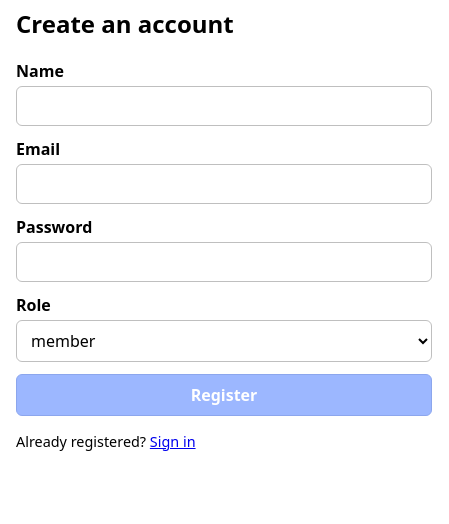
RegisterPage › renders the exact error string for a 400 validation failure
Type "Ada" into the field labelled "Name". click: (224, 106)
box: [16,86,432,126]
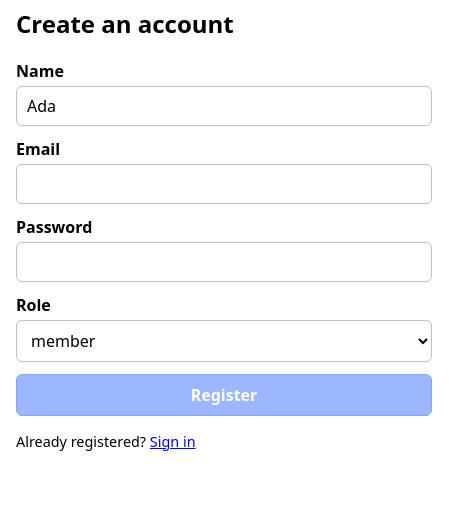
Type "ada@library.test" into the field labelled "Email". click: (224, 184)
box: [16,164,432,204]
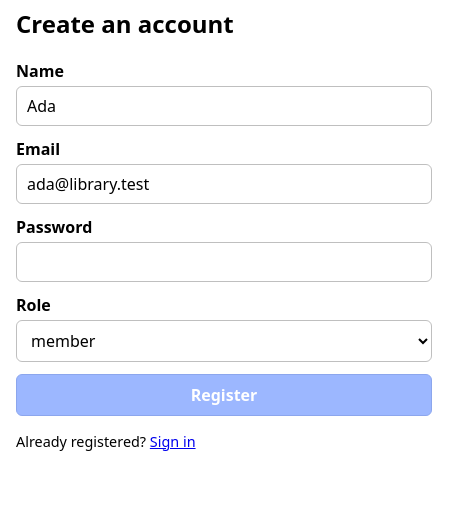
Type "short" into the password field labelled "Password". click: (224, 262)
box: [16,242,432,282]
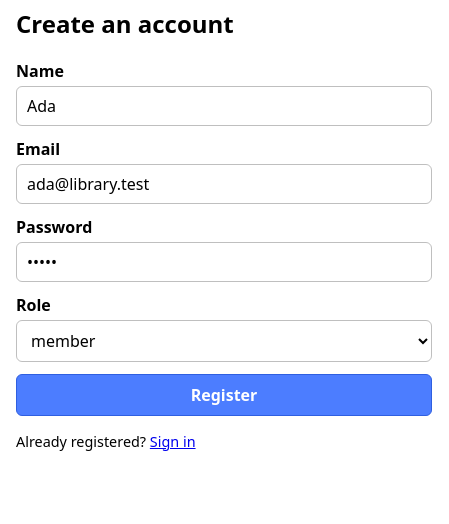
Click the button "Register". click: (224, 395)
box: [16,374,432,416]
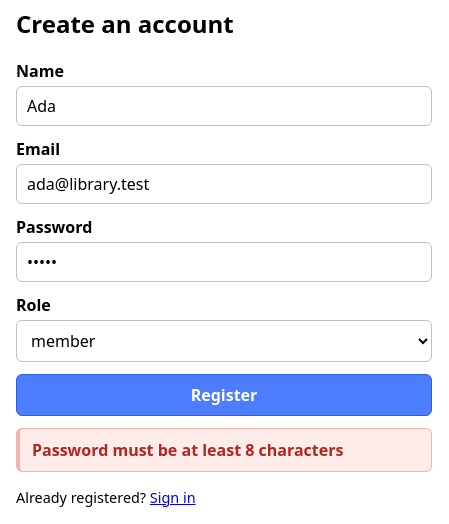
Now the message reads "Password must be at least 8 characters", box [32,439,344,461]
